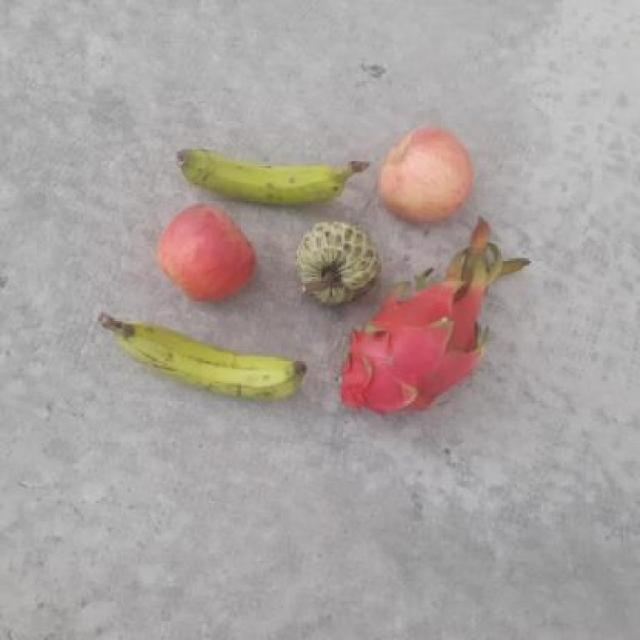apple: (153, 202, 259, 302), (381, 128, 476, 222)
banana: (125, 315, 308, 411), (168, 139, 360, 206)
dragon fruit: (334, 288, 489, 414)
sugar apple: (294, 216, 381, 302)
